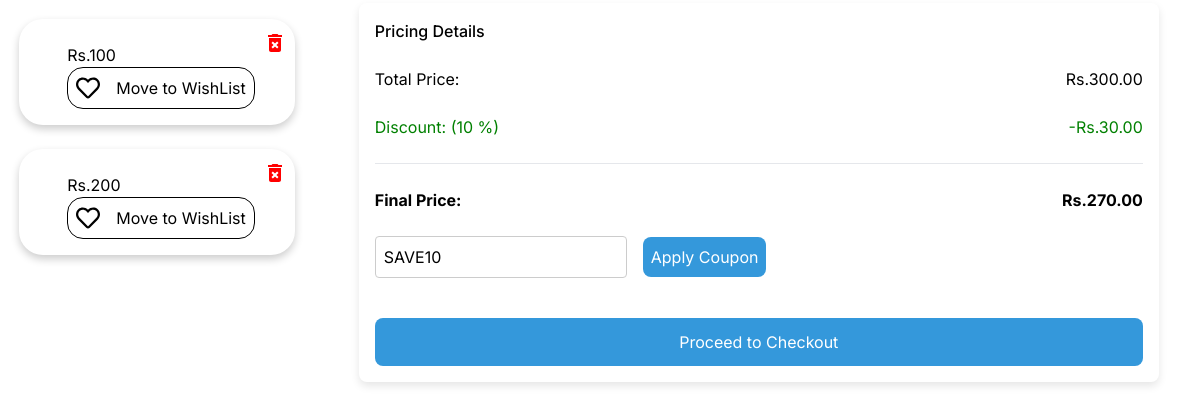
Test: applies valid coupon and updates discount
Apply a valid coupon
Step 1. Replace the text in the field with placeholder "Enter coupon code" with "SAVE20" → [501, 257], box [375,236,627,278]
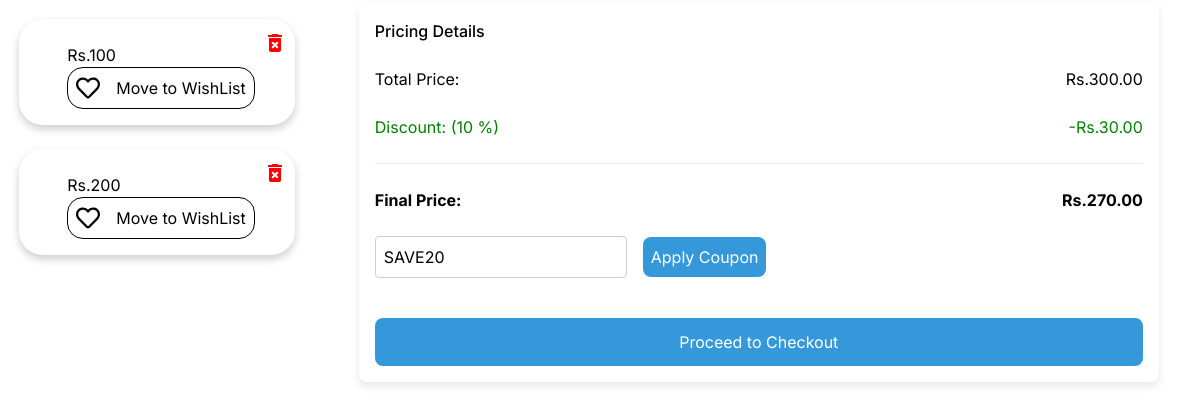
Step 2. Click the button "Apply Coupon" → [705, 257], box [643,237,766,277]
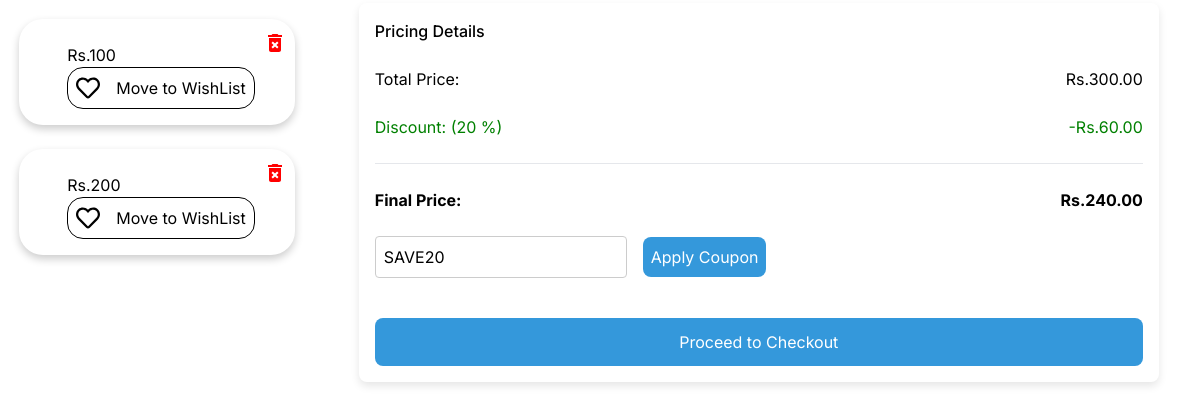
Expected: the text "Discount: (20 %)" is shown, [375,115,502,139]
